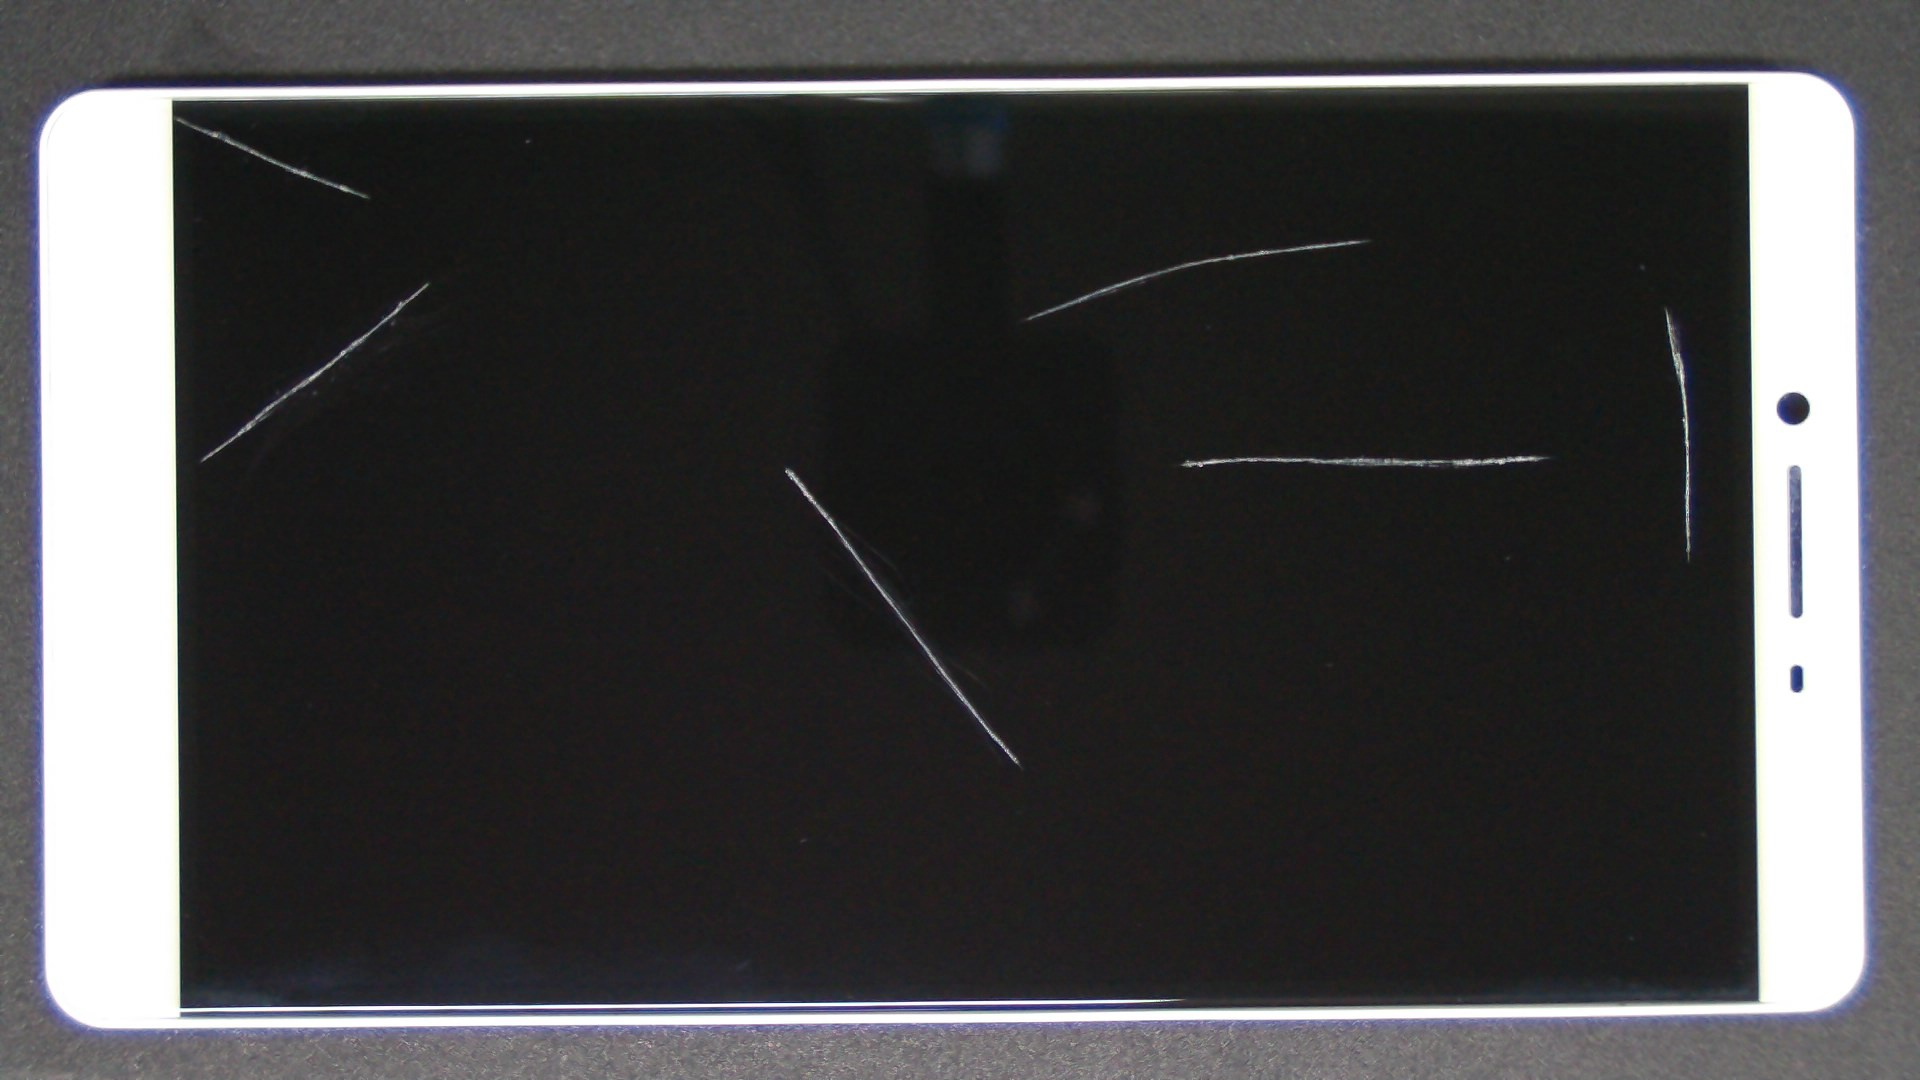oil: (760, 227, 1920, 682), (393, 233, 1179, 702), (833, 152, 1920, 458), (680, 119, 1920, 359), (214, 141, 640, 423), (87, 57, 261, 174)
